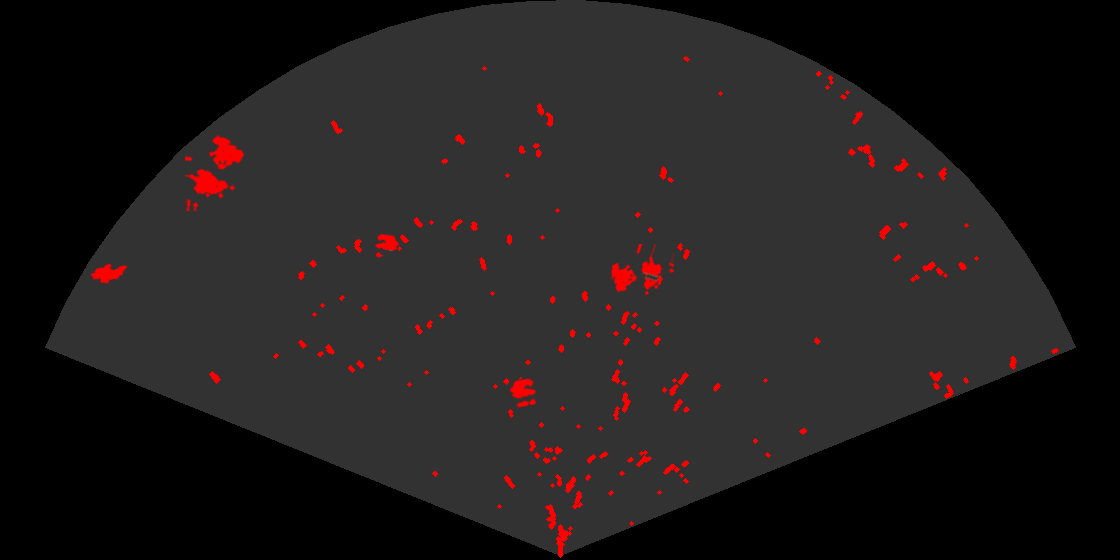AUV: (89, 262, 129, 285)
ball: (508, 377, 538, 409), (373, 232, 400, 259)
cage: (185, 133, 246, 211), (610, 244, 674, 297)
